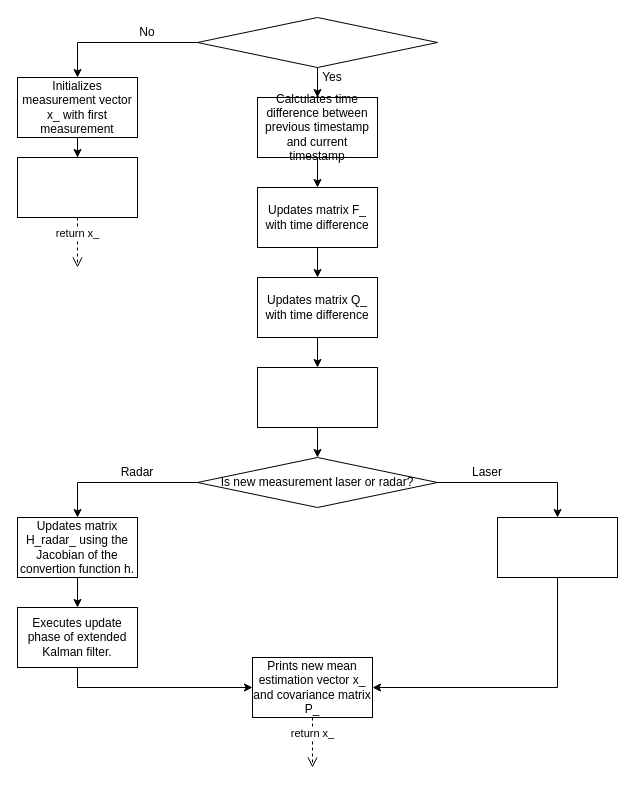
The diagram is 635 pixels wide and 795 high, and some of its shapes have lost their labels. Each missing label, with the centre of its shape:
"Executes predict phase of Kalman filter" belongs at pixel 317 397.
"Executes update phase of common Kalman filter." belongs at pixel 557 547.
"Initializes previous_timestamp_ with timestamp of first measurement." belongs at pixel 77 187.
"Is filter initialized ?" belongs at pixel 317 42.
